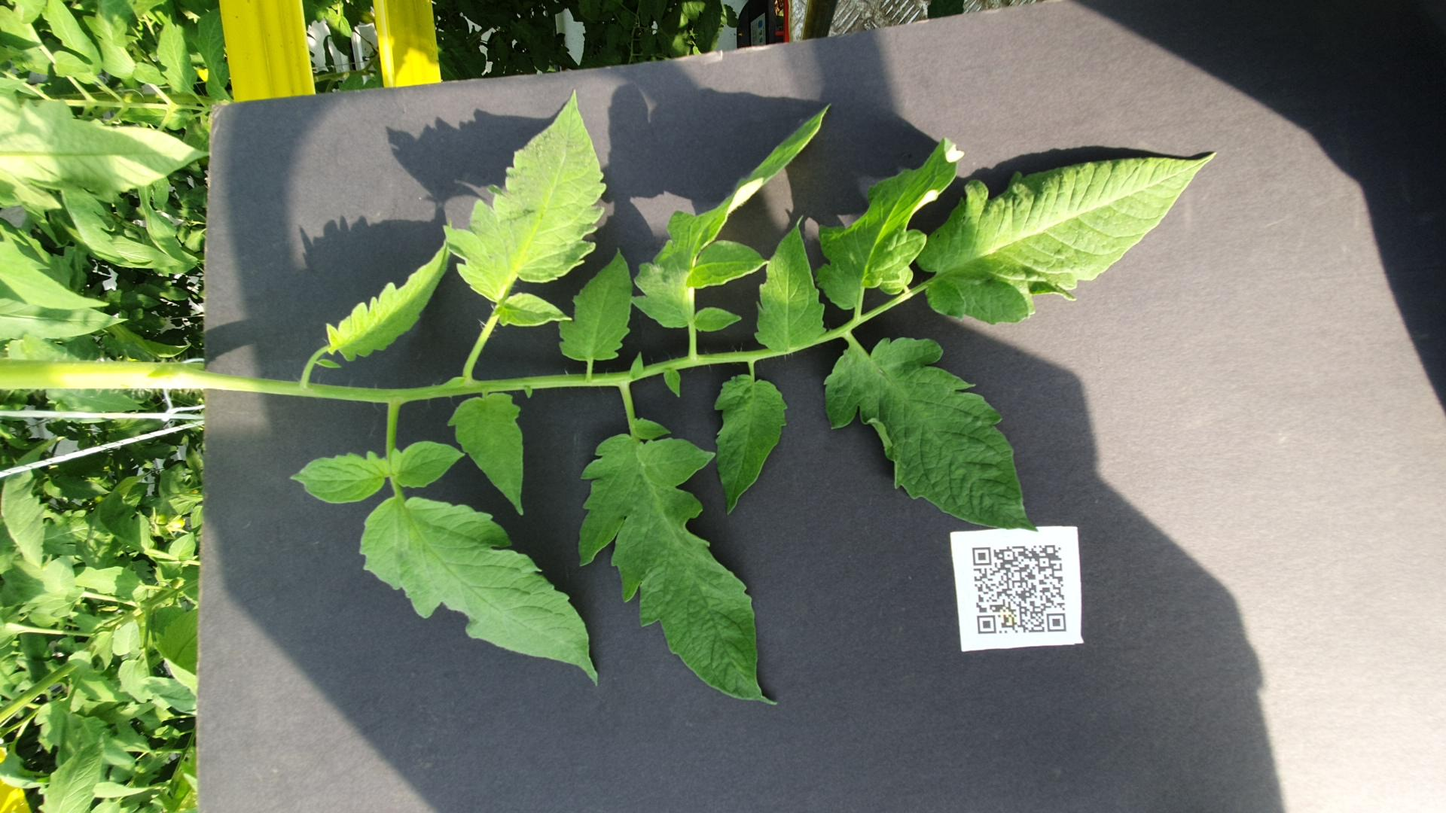Healthy: (227, 164, 662, 337), (190, 324, 677, 438), (866, 514, 1178, 686), (852, 355, 1276, 469), (496, 462, 849, 584), (854, 247, 1291, 341), (892, 458, 1205, 543), (1076, 0, 1285, 118), (799, 183, 1020, 254), (526, 401, 783, 446), (525, 249, 750, 295), (817, 423, 1063, 465), (894, 0, 1047, 61), (802, 313, 1007, 356), (835, 0, 914, 73), (0, 21, 147, 60), (1279, 87, 1422, 111), (372, 41, 443, 84), (196, 66, 273, 84), (280, 62, 345, 80), (445, 95, 500, 110)
